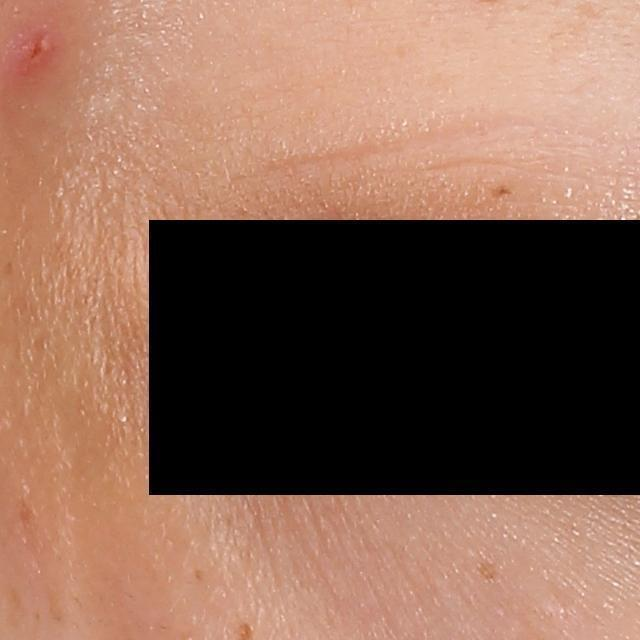melasma: (13, 496, 41, 534), (475, 556, 505, 583)
papule: (13, 27, 62, 77)
